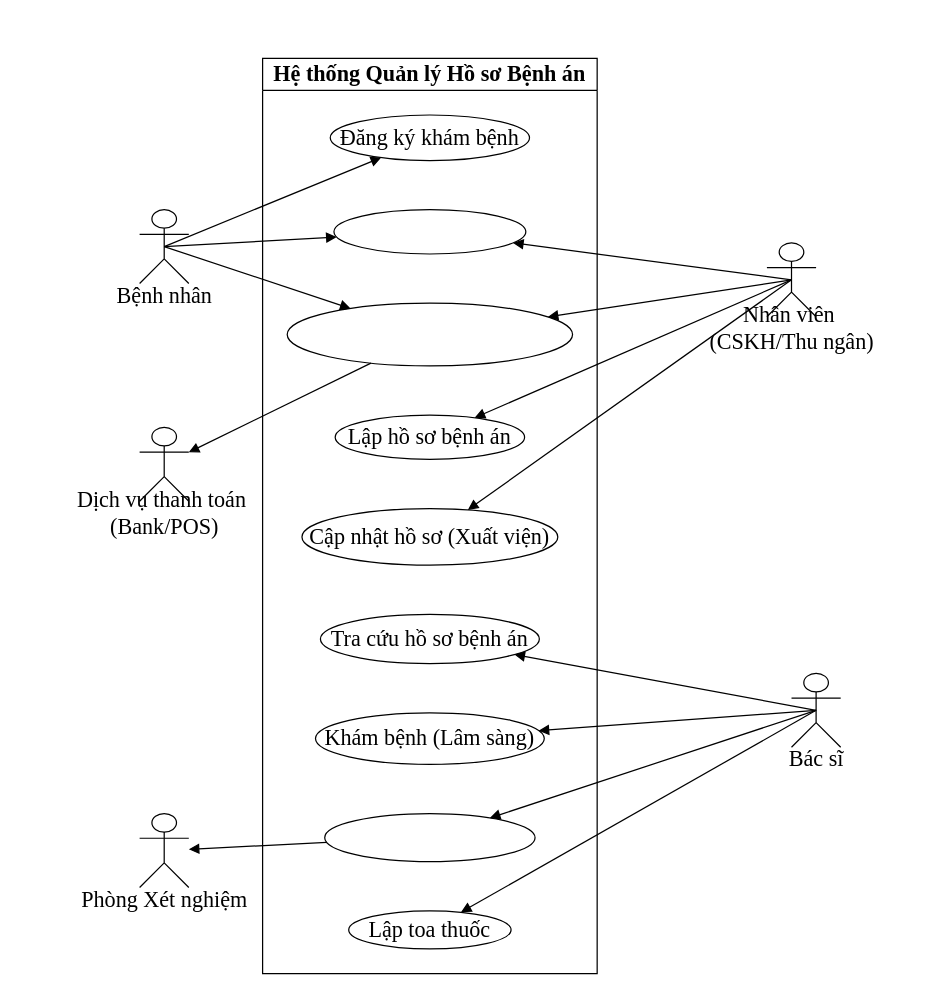
The diagram is 938 pixels wide and 995 high, and some of its shapes have lost their labels. The box of each missing label's shape, as (x1, y1, x2, y2) in pixels:
Chỉ định xét nghiệm: (323, 812, 535, 862)
Thanh toán (Lệ phí/Viện phí): (286, 302, 573, 366)
Đặt lịch hẹn khám: (333, 208, 526, 254)
